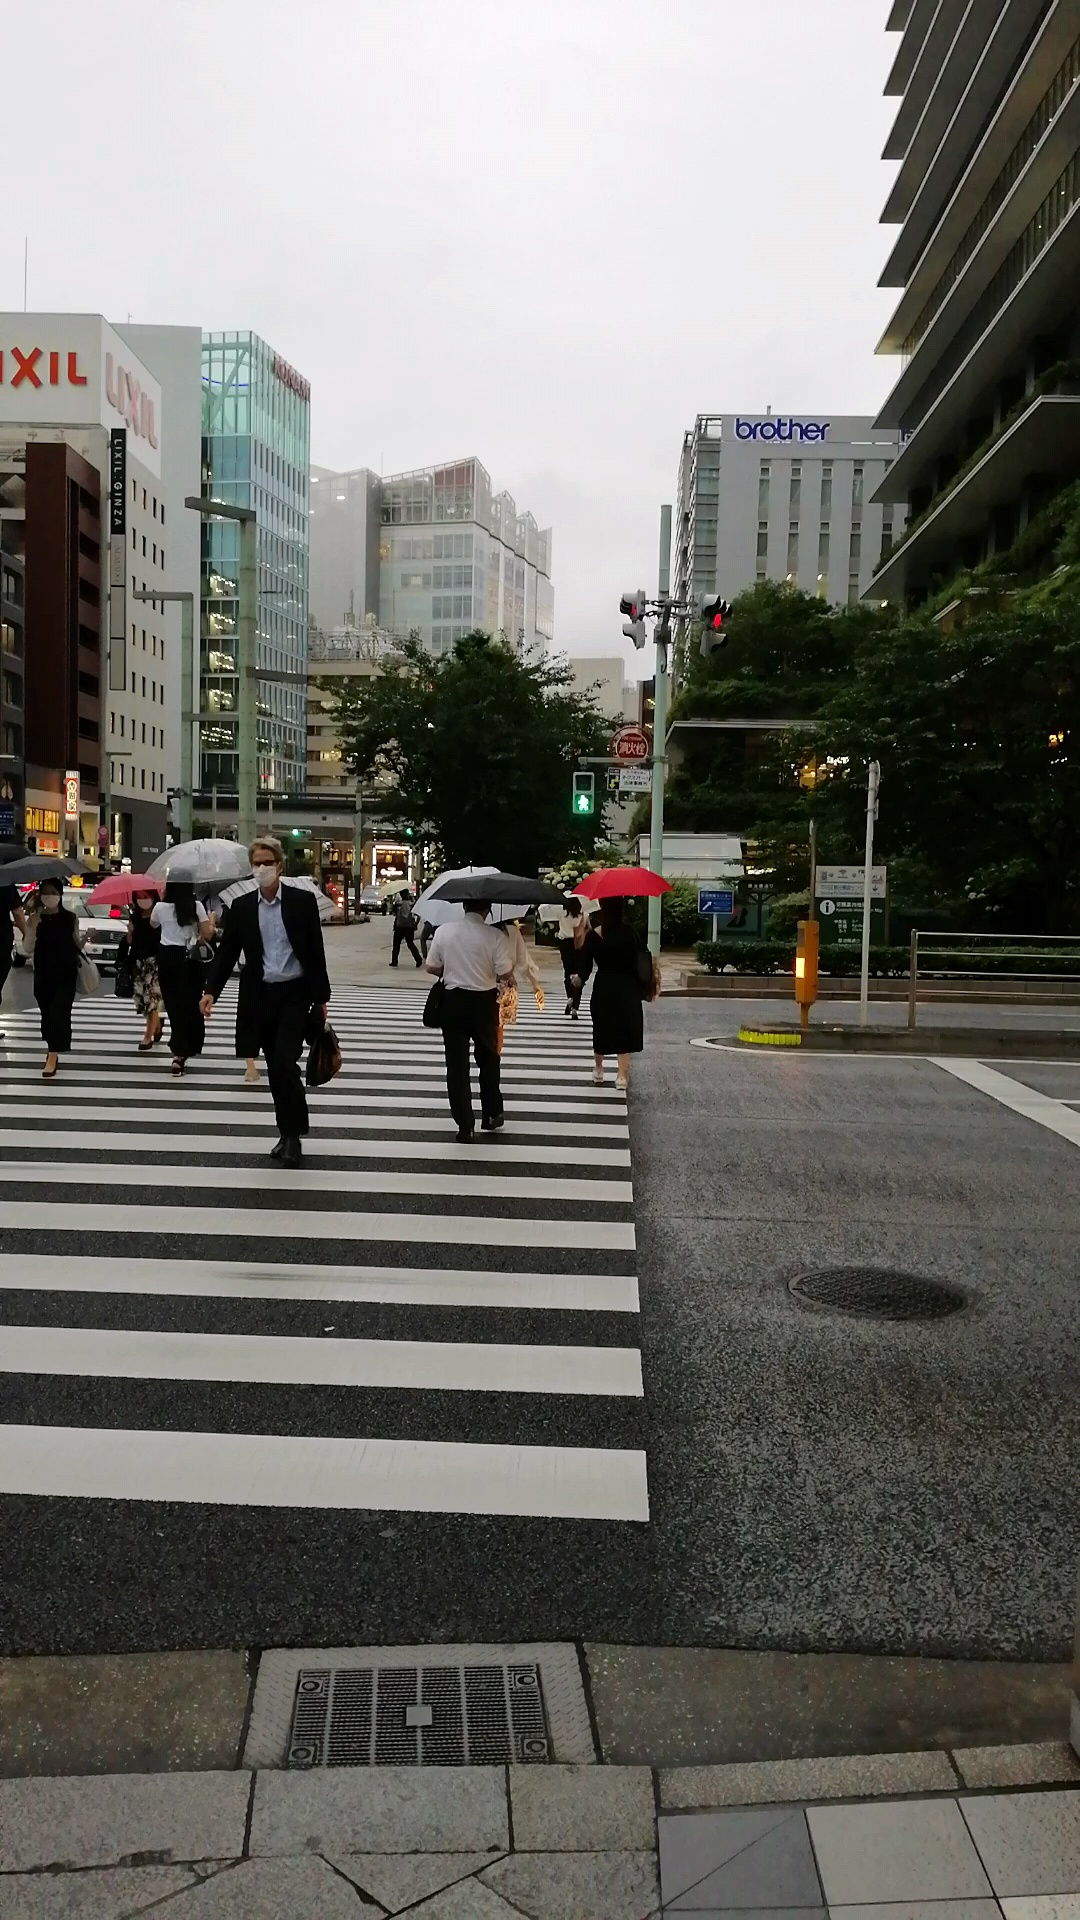green: (570, 771, 595, 815)
